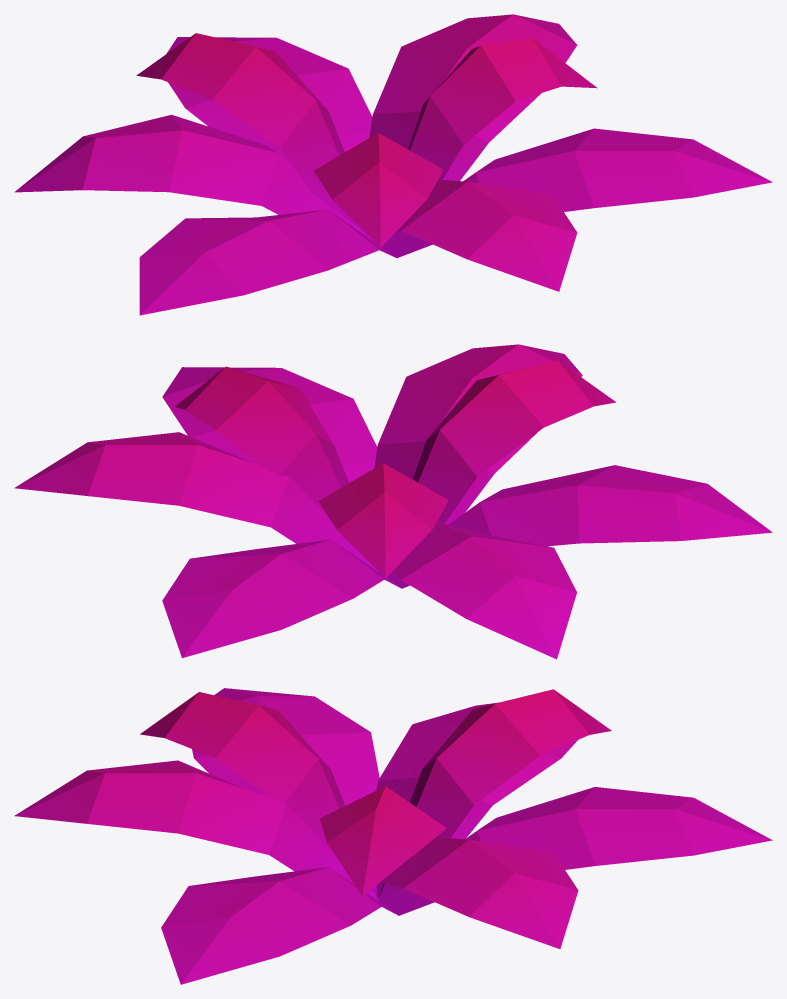
The model's file is SM_Plant_Fern_Leaves_01.gltf.
3 views of the same model, one above another, from view 1: azimuth 30°, elevation 25°; view 2: azimuth 150°, elevation 25°; view 3: azimuth 270°, elevation 25° (orthographic).
Visible parts, largest first — view 1: SM_Plant_Fern_Leaves_01; view 2: SM_Plant_Fern_Leaves_01; view 3: SM_Plant_Fern_Leaves_01.
Boxes of the visible parts, x1,y1,x2,y2 form: SM_Plant_Fern_Leaves_01: (14, 14, 772, 315); SM_Plant_Fern_Leaves_01: (14, 344, 772, 659); SM_Plant_Fern_Leaves_01: (14, 688, 772, 984).
Size of the model in its own units: 1.29 by 0.3399 by 1.4.
